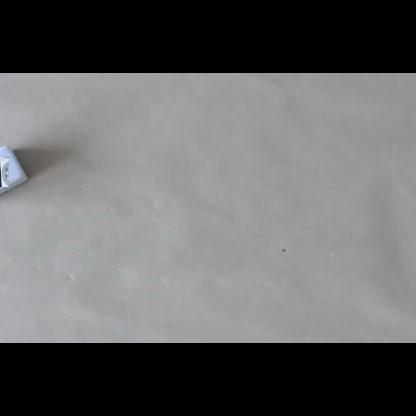1p: (0, 157, 9, 187)
